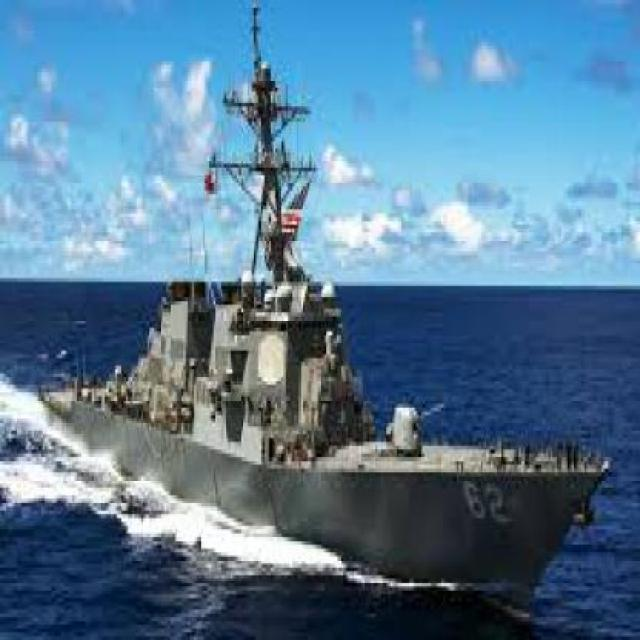warship2: (20, 16, 571, 618)
